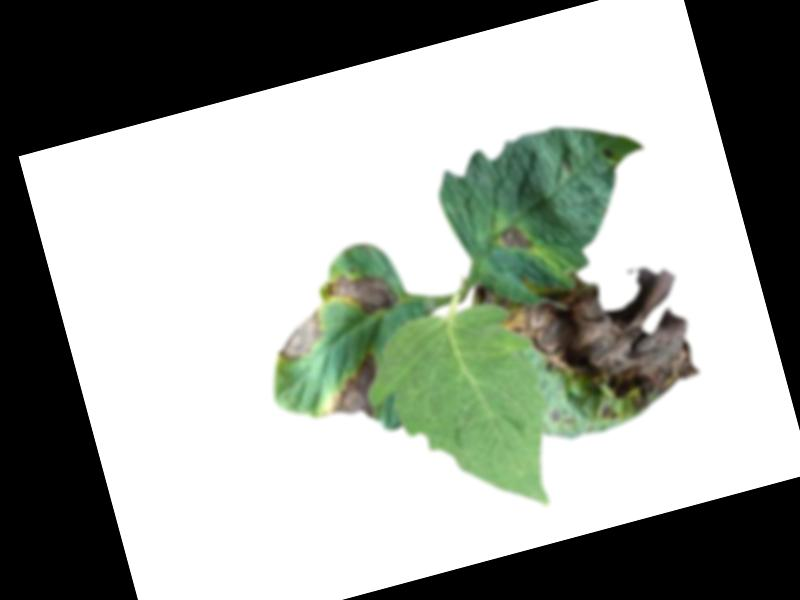Early_blight: (493, 243, 706, 443), (312, 353, 390, 429), (322, 262, 399, 325), (267, 309, 329, 365), (495, 222, 533, 259), (467, 282, 496, 308), (600, 145, 616, 164)
healthy: (346, 279, 574, 545)
